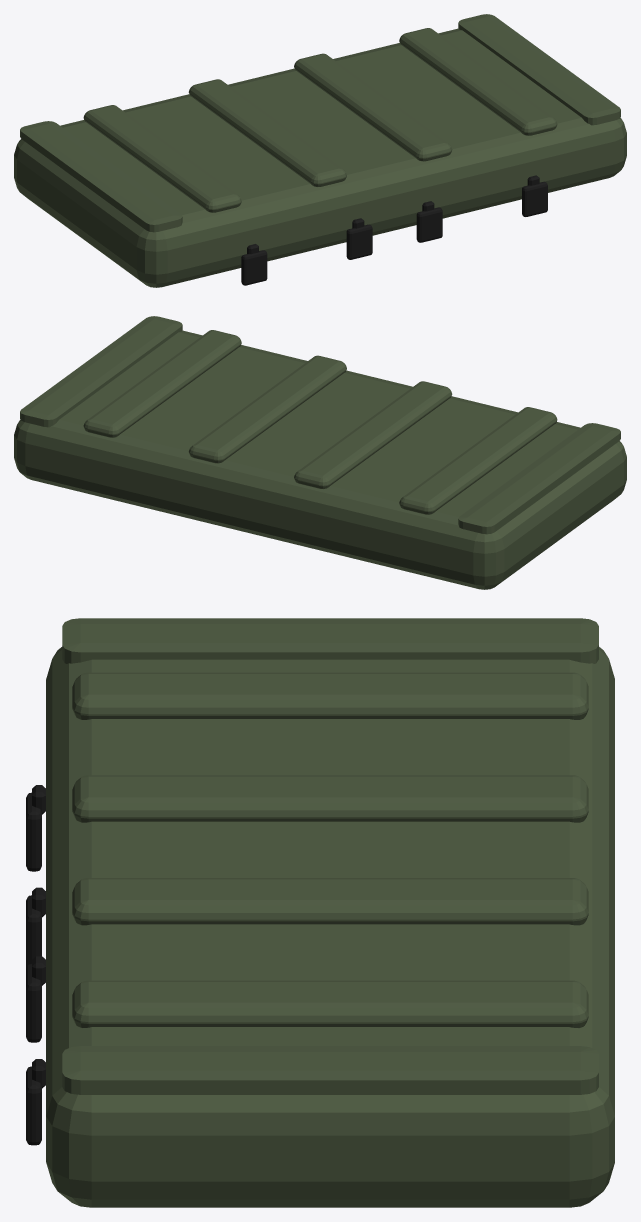
File: SRZ_TransportCase_Grey_Lid.fbx
3 renders of one model, top to bottom at view 1: azimuth 30°, elevation 25°; view 2: azimuth 150°, elevation 25°; view 3: azimuth 270°, elevation 25°, orthographic. The views are drawn at different scales.
Parts seen in each view (by area): view 1: TransportCase_Grey_Lid; view 2: TransportCase_Grey_Lid; view 3: TransportCase_Grey_Lid.
Boxes of the visible parts, x1,y1,x2,y2 form: TransportCase_Grey_Lid: [14, 14, 626, 287]; TransportCase_Grey_Lid: [14, 316, 626, 589]; TransportCase_Grey_Lid: [26, 618, 614, 1207].
Size of the model in its own units: 111 by 17.5 by 58.2.
